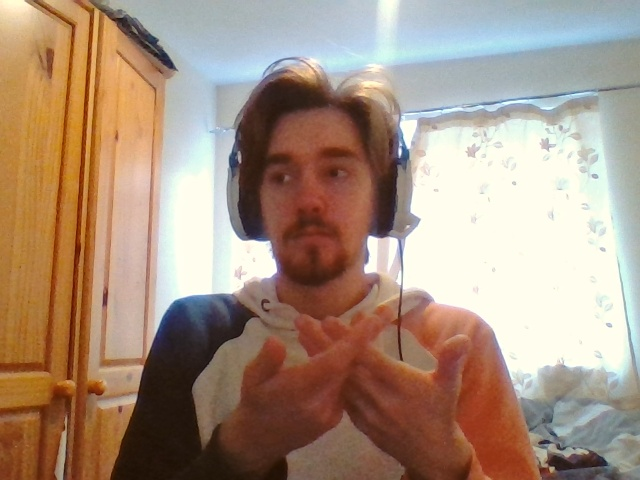how: (236, 304, 470, 454)
